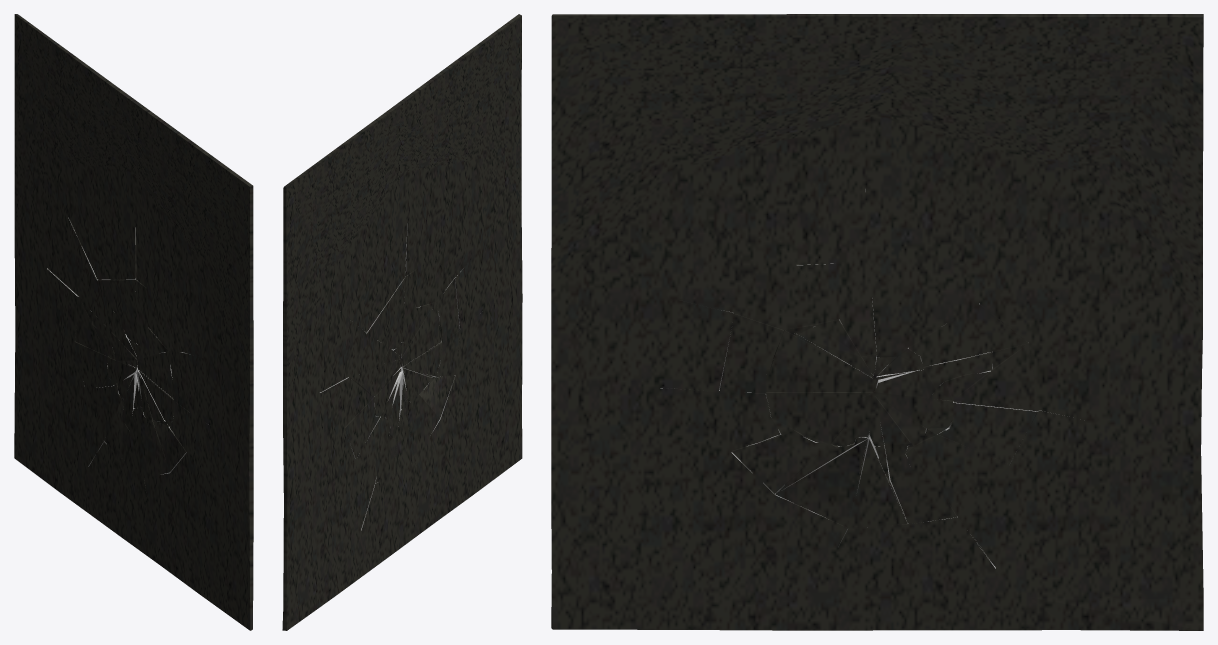
Rendered from 01_01_window_breakable_minor_damage.dae.
3 renders of one model, left to right at view 1: azimuth 30°, elevation 25°; view 2: azimuth 150°, elevation 25°; view 3: azimuth 270°, elevation 25°, orthographic. The views are drawn at different scales.
Parts seen in each view (by area): view 1: minor_damage, edge; view 2: minor_damage, edge; view 3: minor_damage, edge.
Boxes of the visible parts, left/top/right/bottom form: minor_damage: left=14, top=14, right=253, bottom=630; edge: left=47, top=218, right=186, bottom=474; minor_damage: left=282, top=14, right=522, bottom=630; edge: left=320, top=223, right=460, bottom=530; minor_damage: left=551, top=14, right=1203, bottom=630; edge: left=660, top=189, right=1041, bottom=568.
Size of the model in its own units: 6.1 by 220 by 212.
